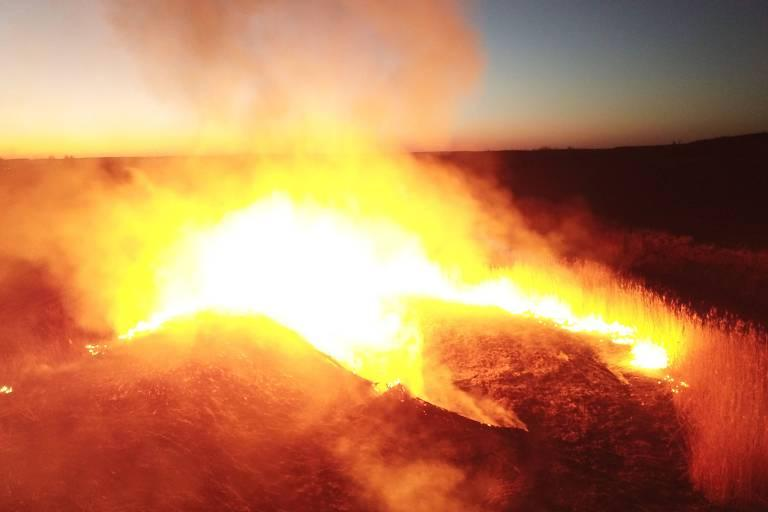fire: (148, 225, 429, 335)
